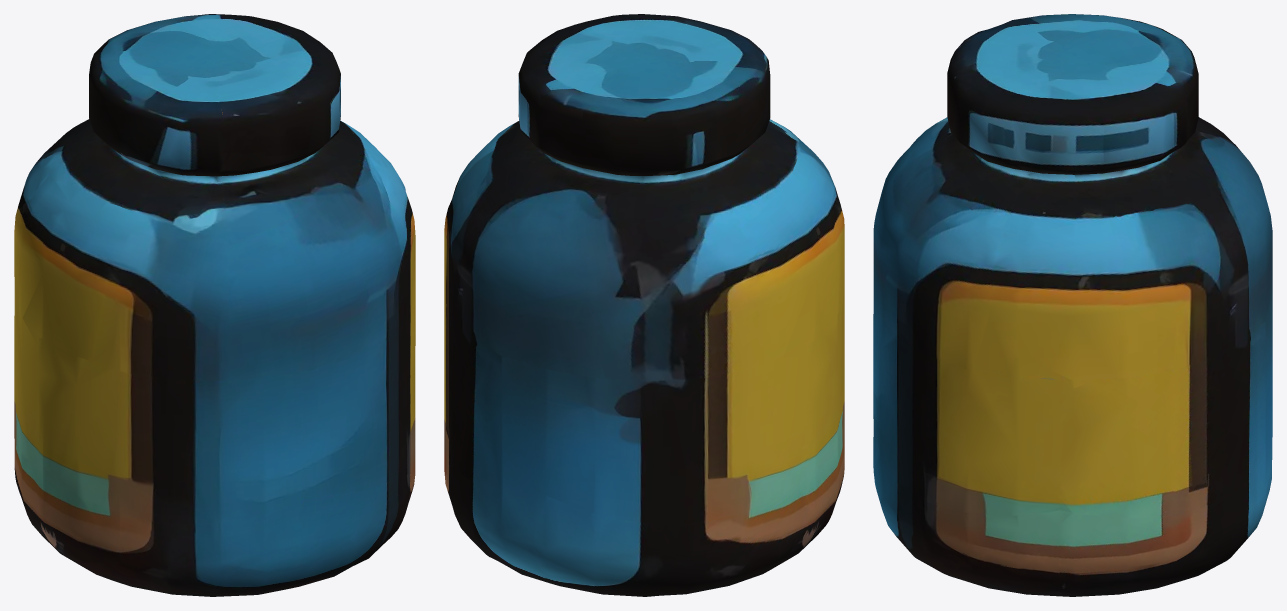
The model's file is protein-tub.glb.
The picture shows the model from 3 angles, left to right: view 1: azimuth 30°, elevation 25°; view 2: azimuth 150°, elevation 25°; view 3: azimuth 270°, elevation 25°; orthographic projection.
Parts seen in each view (by area): view 1: tripo_node_7b09656f-da1a-4c1e-a458-c3f2ed0f9151; view 2: tripo_node_7b09656f-da1a-4c1e-a458-c3f2ed0f9151; view 3: tripo_node_7b09656f-da1a-4c1e-a458-c3f2ed0f9151.
Part boxes in pixels (left/top/right/bottom): tripo_node_7b09656f-da1a-4c1e-a458-c3f2ed0f9151: left=14, top=14, right=415, bottom=596; tripo_node_7b09656f-da1a-4c1e-a458-c3f2ed0f9151: left=444, top=14, right=844, bottom=596; tripo_node_7b09656f-da1a-4c1e-a458-c3f2ed0f9151: left=873, top=14, right=1272, bottom=596.
Size of the model in its own units: 0.7597 by 0.9999 by 0.7611.
1 material, 1 textured.
